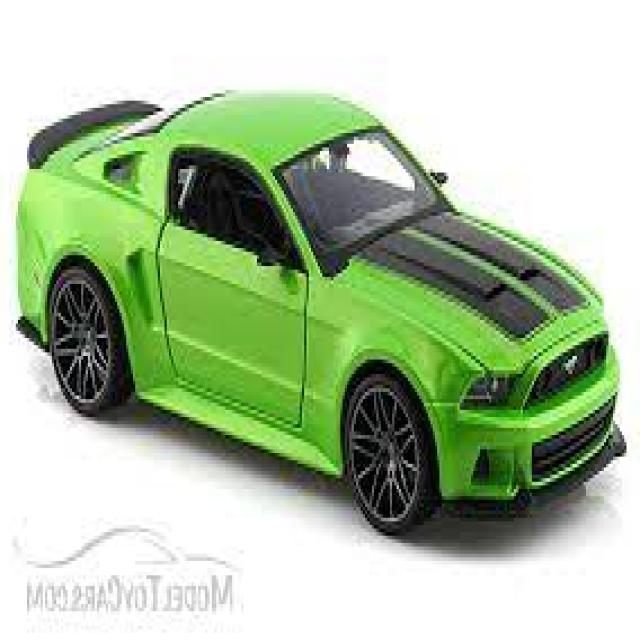Car: (16, 86, 629, 536)
